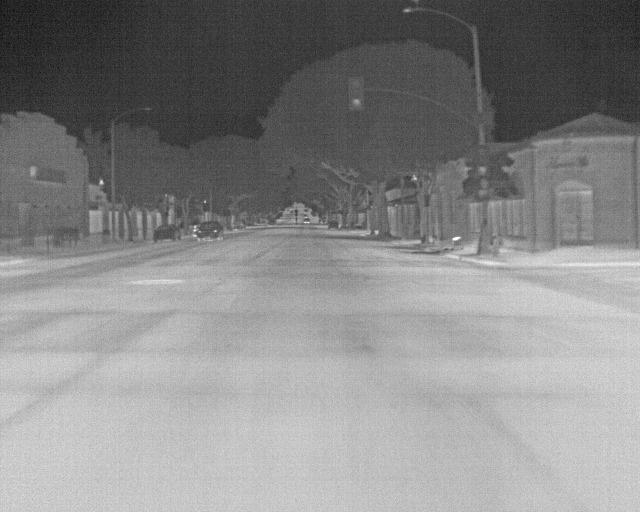car: (196, 220, 224, 240), (153, 224, 180, 242)
